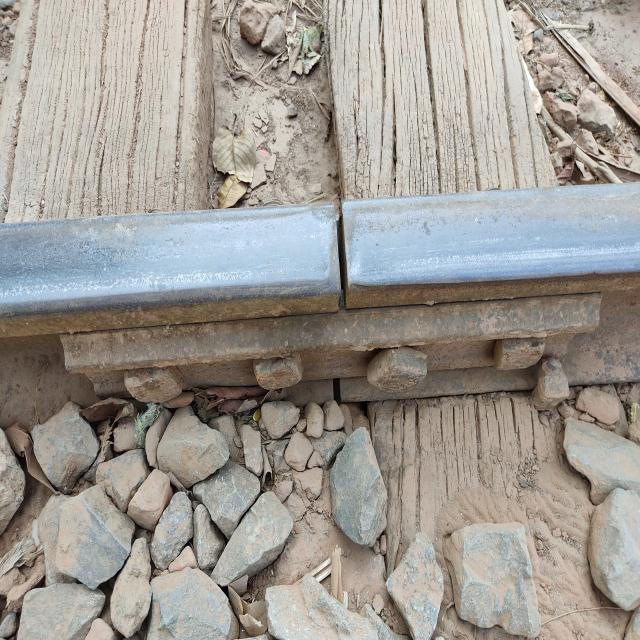Faults: (310, 194, 372, 316)
